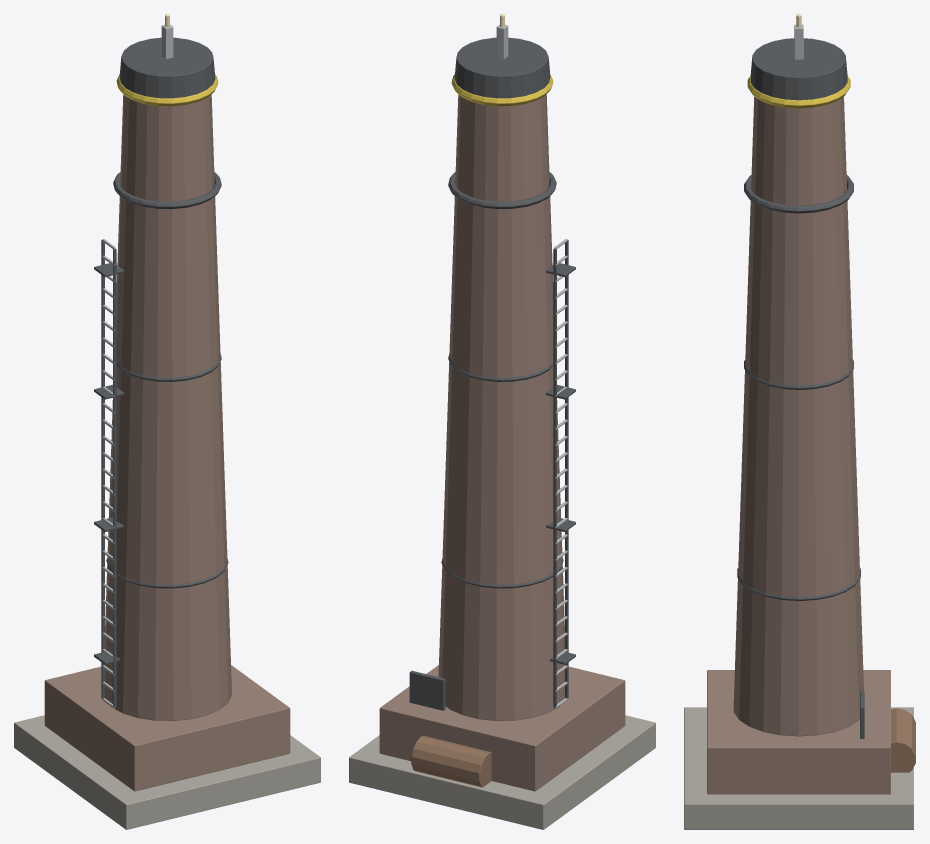
File: chimney_stack.fbx
3 renders of one model, left to right at view 1: azimuth 30°, elevation 25°; view 2: azimuth 150°, elevation 25°; view 3: azimuth 270°, elevation 25°, orthographic. The views are drawn at different scales.
Parts seen in each view (by area): view 1: chimney_stack; view 2: chimney_stack; view 3: chimney_stack.
Boxes of the visible parts, x1,y1,x2,y2 form: chimney_stack: (14,14,320,829); chimney_stack: (349,14,655,829); chimney_stack: (684,14,915,829).
Bounding box in the file's own units: 4 × 14.72 × 4.03.
